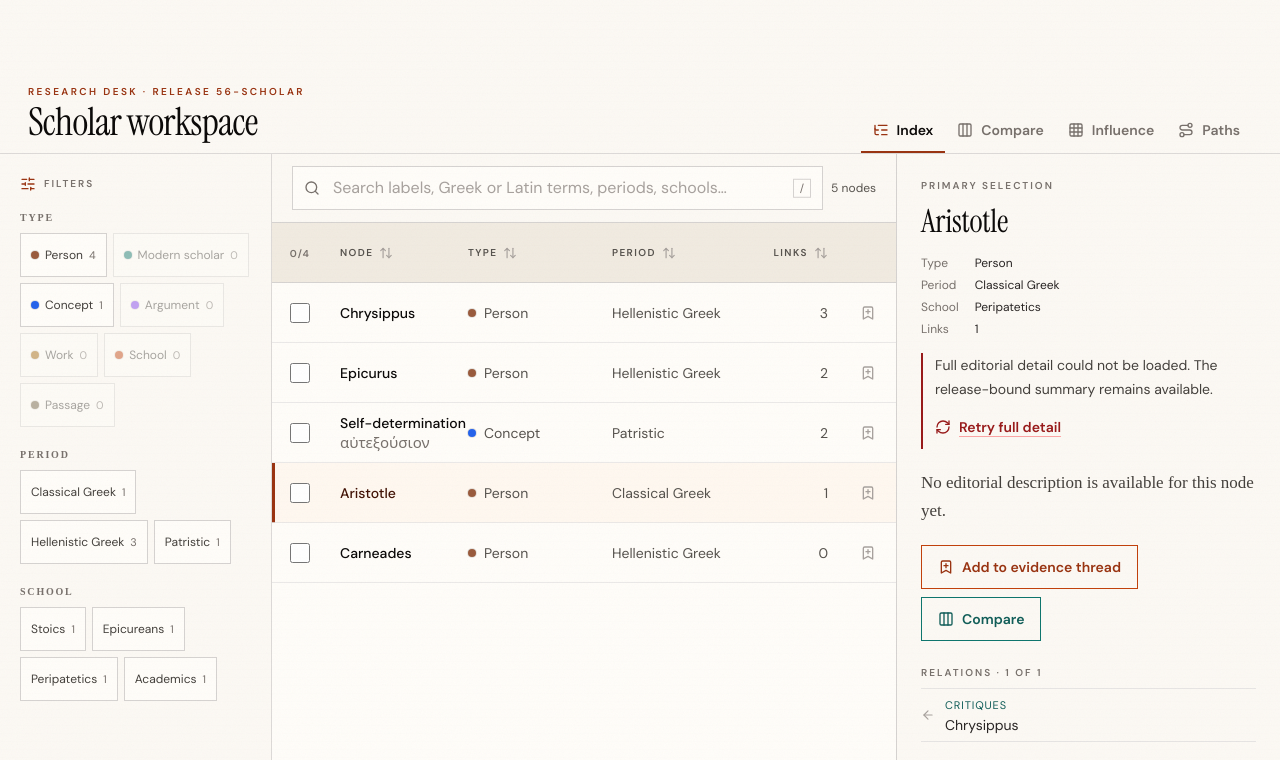
Scenario: ScholarWorkspace › keeps lazy-detail failure local, exposes retry, and keeps 44px targets
Check: the heading "Scholar workspace" is shown, box [28,97,258,147]
Check: the message shows "The release-bound summary remains available.", box [935,356,1218,398]
Click the checkbox named "Add Aristotle to comparison": (300, 493) [290,483,310,503]
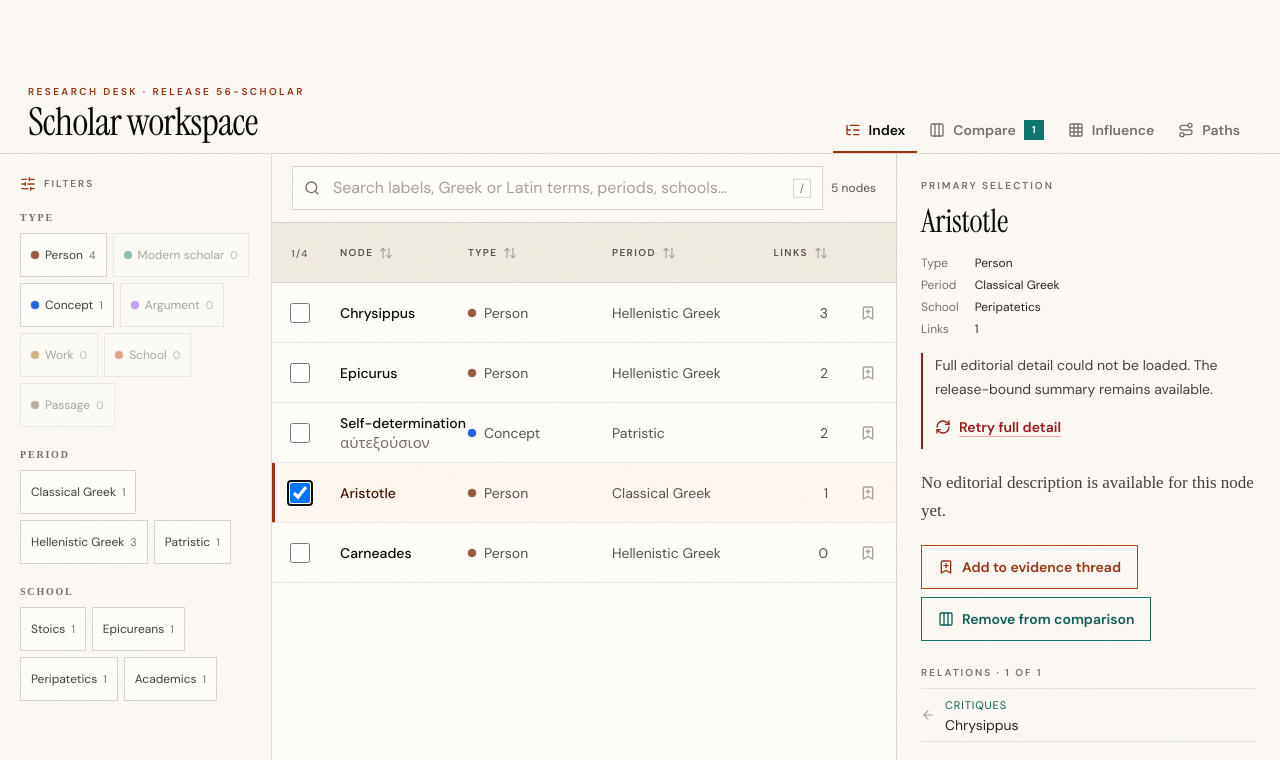
Click the button "Add to evidence thread": (1030, 567) [921,545,1138,589]
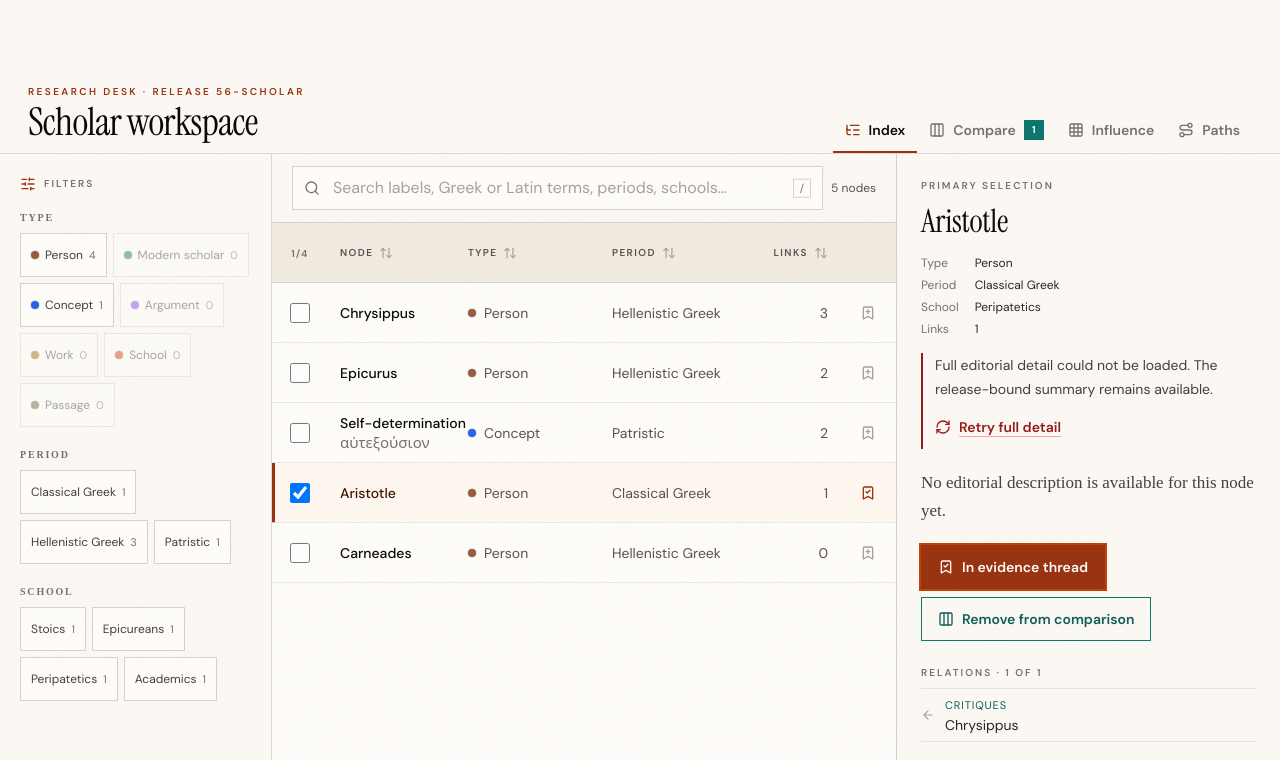
Click the button "Retry full detail": (998, 427) [935,405,1061,449]
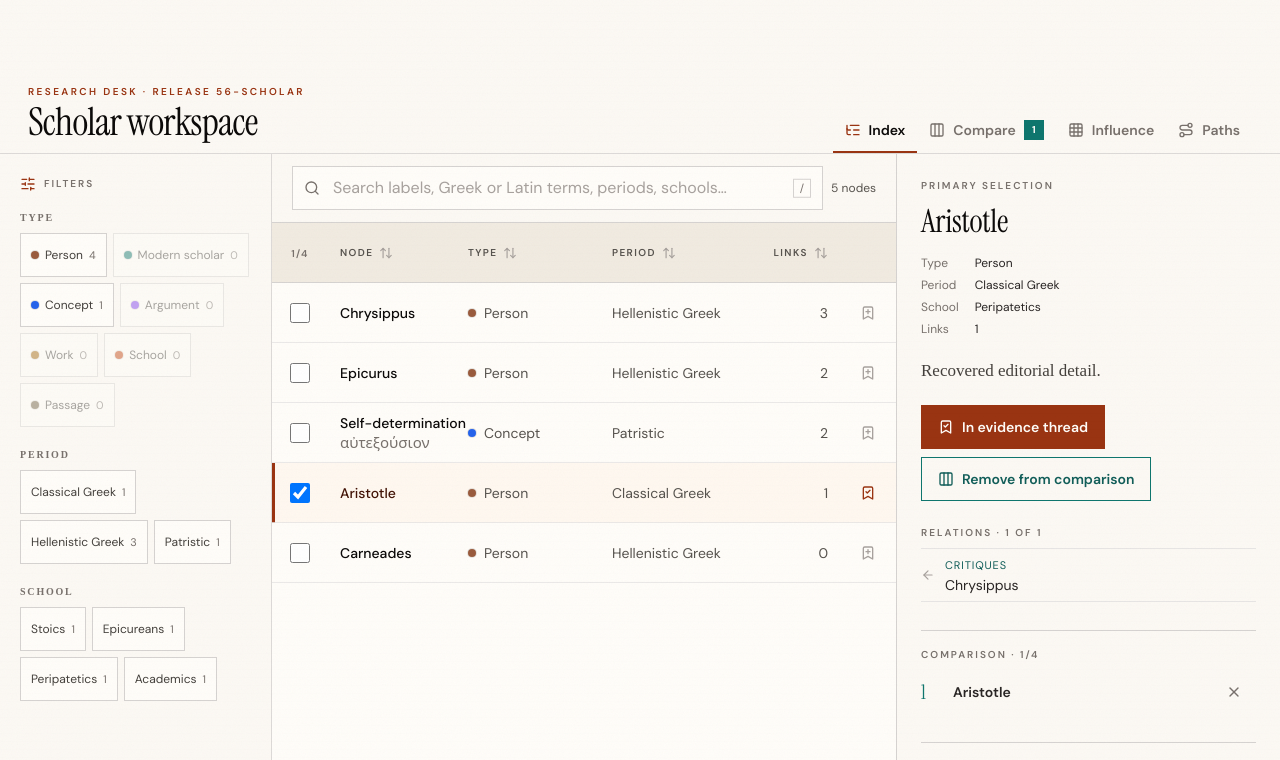
Check: the text "Recovered editorial detail." is shown, box [921,361,1101,380]
Check: the message is gone
